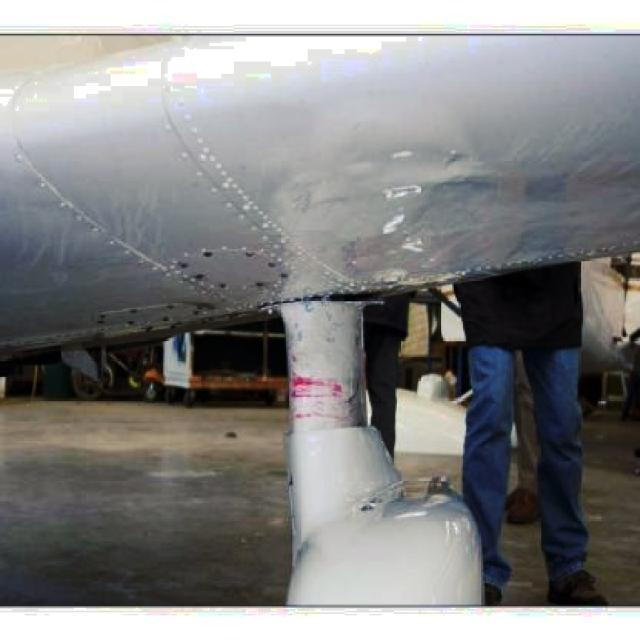dent: (392, 175, 434, 212)
